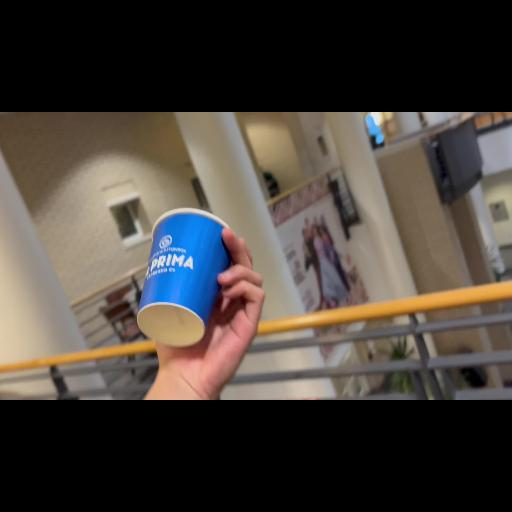lp_paper_cup: (132, 206, 232, 346)
